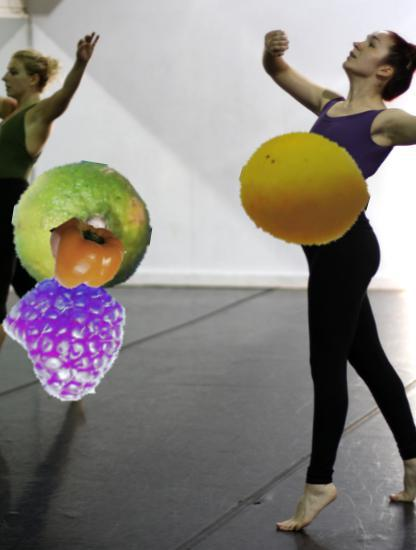Limes: (11, 161, 151, 301)
Peach: (239, 123, 370, 254)
Pepper: (45, 214, 124, 293)
Raspberry: (8, 273, 131, 396)
